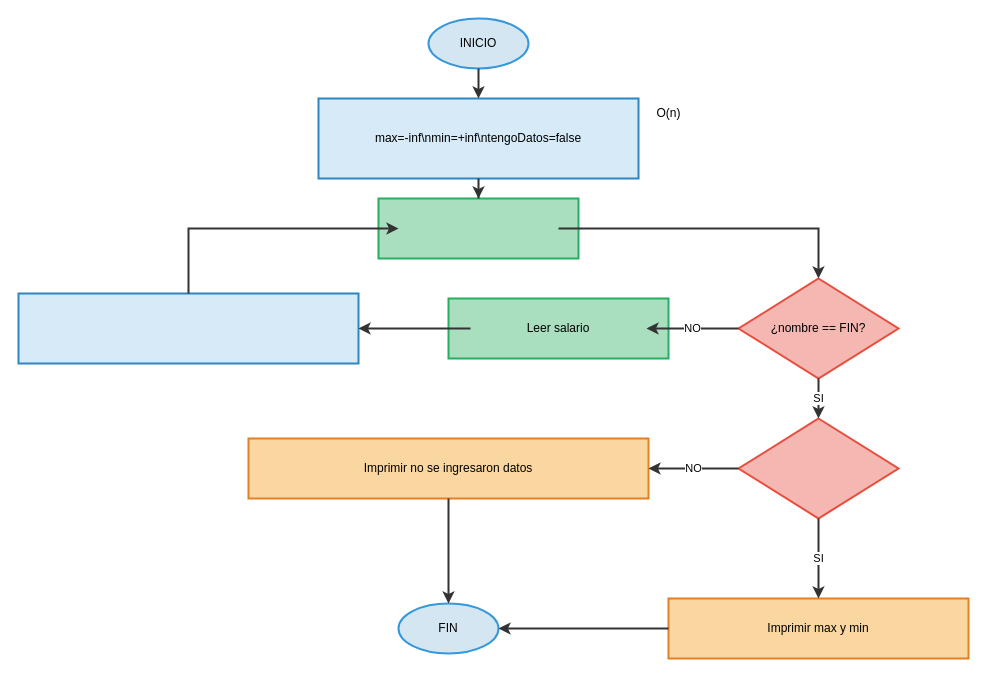
Some shapes in this 986 by 676 pixel diagram are drawn without their labels. Here are the shapes that lost their labels. From the top down, the centre of each, then its label:
pixel 478 228: Leer nombre
pixel 188 328: Actualizar max/min y nombres\ntengoDatos=true
pixel 818 468: ¿tengo datos?
